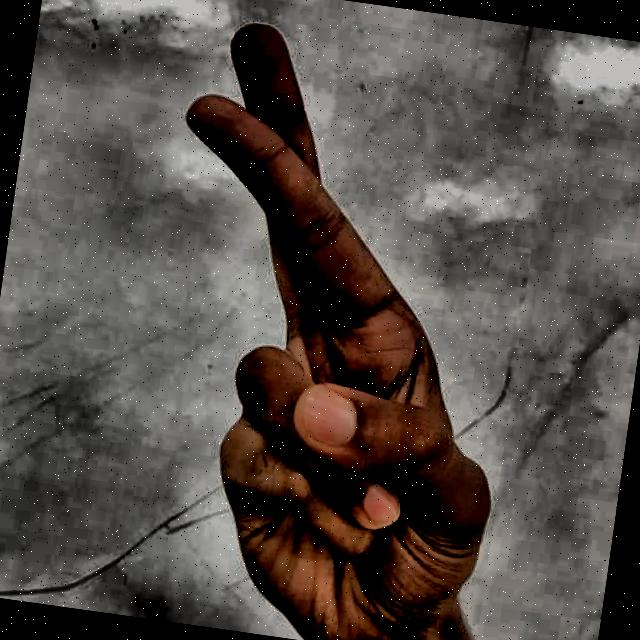Ra: (61, 0, 579, 640)
